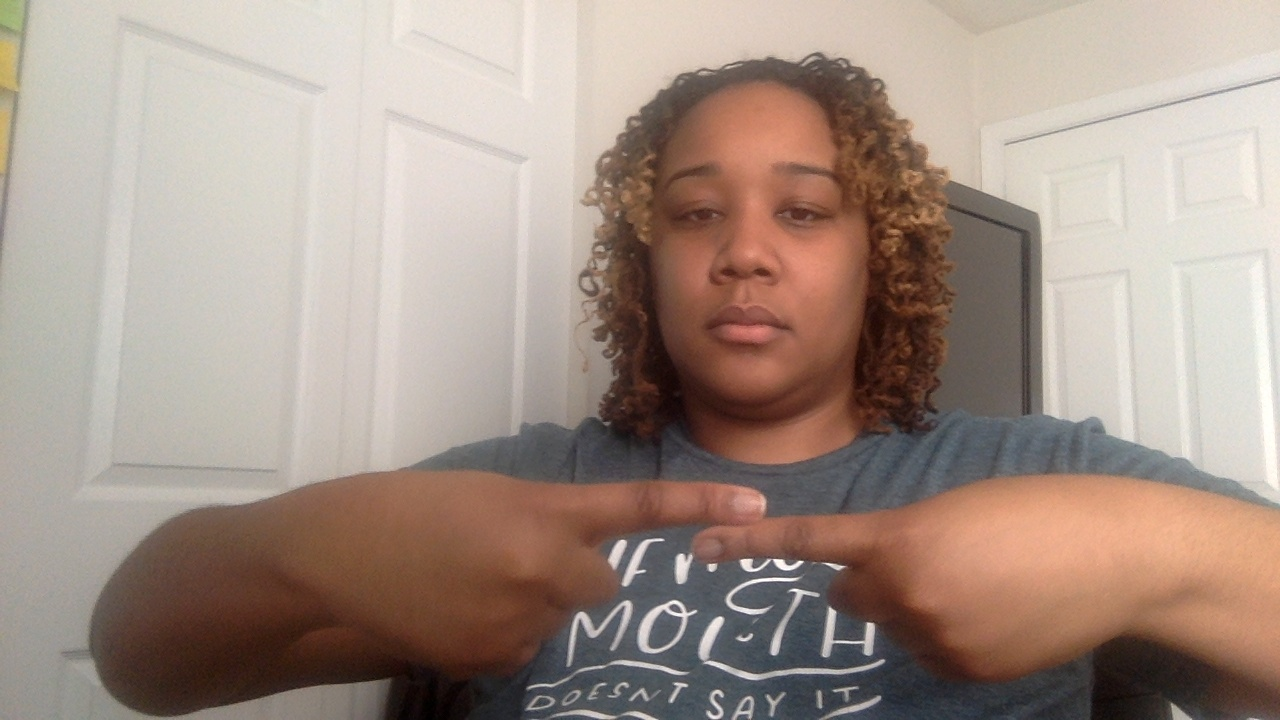go: (87, 457, 1280, 720)
